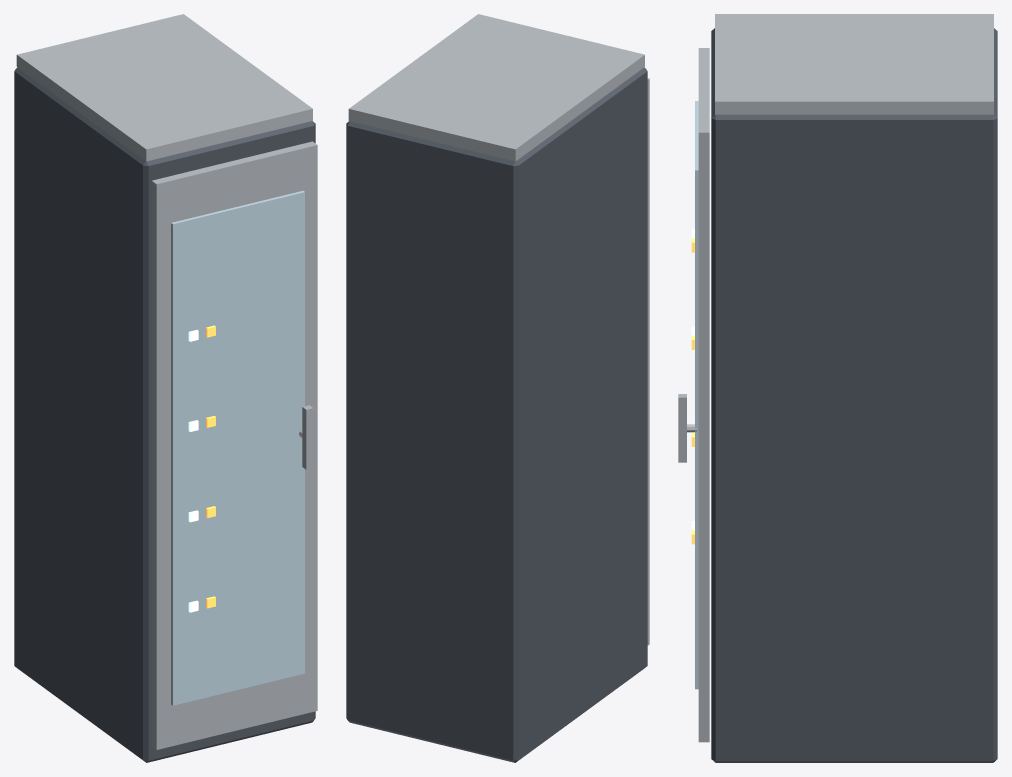
Rendered from spaceship-deck-kit-server-rack-e02f6bc5__12579.glb.
3 views of the same model, side by side, from view 1: azimuth 30°, elevation 25°; view 2: azimuth 150°, elevation 25°; view 3: azimuth 270°, elevation 25° (orthographic). The views are drawn at different scales.
Visible parts, largest first — view 1: server-rack, rack-door/glass, rack-door/steel; view 2: server-rack, rack-door/steel; view 3: server-rack, rack-door/steel, rack-door/glass.
Part boxes in pixels (<box>): server-rack: <box>14,14,315,762</box>; rack-door/glass: <box>171,190,304,705</box>; rack-door/steel: <box>151,141,317,749</box>; server-rack: <box>346,14,647,762</box>; rack-door/steel: <box>647,78,649,645</box>; server-rack: <box>711,14,997,762</box>; rack-door/steel: <box>678,48,709,742</box>; rack-door/glass: <box>695,101,698,689</box>.
Size of the model in its own units: 0.5999 by 2.04 by 0.8919.
